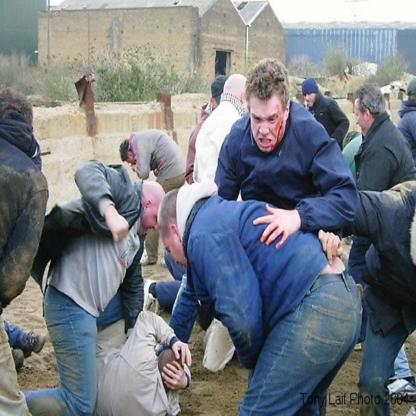face: (251, 100, 288, 152), (162, 234, 195, 269), (144, 208, 168, 230), (356, 102, 368, 136), (125, 153, 140, 167), (305, 90, 316, 107)
